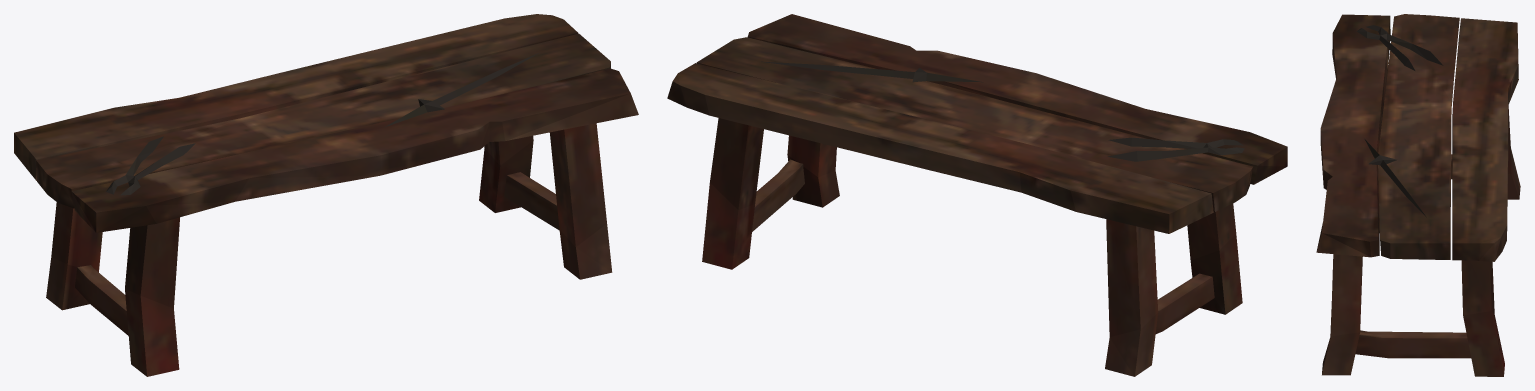
File: blsd_zhuozi_1.FBX
The picture shows the model from 3 angles, left to right: view 1: azimuth 30°, elevation 25°; view 2: azimuth 150°, elevation 25°; view 3: azimuth 270°, elevation 25°; orthographic projection. The views are drawn at different scales.
Parts seen in each view (by area): view 1: blsd_zhuozi_01; view 2: blsd_zhuozi_01; view 3: blsd_zhuozi_01.
Part boxes in pixels (box(x1,y1,x2,y2)): blsd_zhuozi_01: box(14, 14, 638, 376); blsd_zhuozi_01: box(667, 14, 1287, 376); blsd_zhuozi_01: box(1316, 14, 1520, 376).
Size of the model in its own units: 245 by 91.63 by 77.57.
